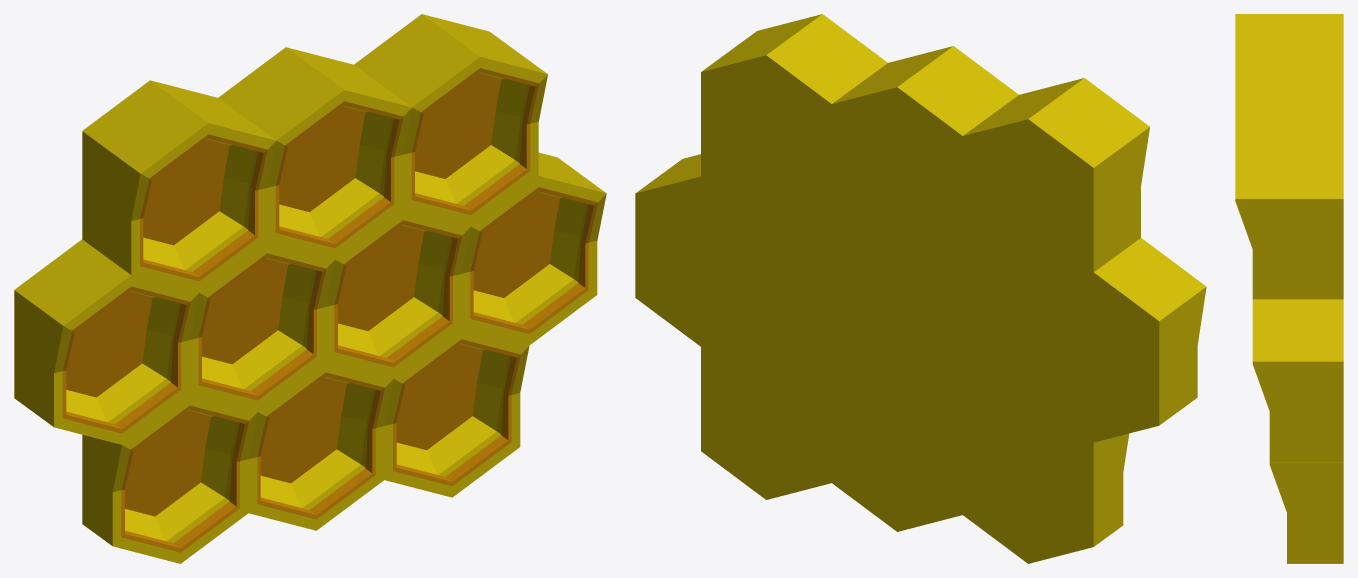
The model's file is CombBlock.fbx.
3 views of the same model, side by side, from view 1: azimuth 30°, elevation 25°; view 2: azimuth 150°, elevation 25°; view 3: azimuth 270°, elevation 25° (orthographic). The views are drawn at different scales.
Parts seen in each view (by area): view 1: Cube; view 2: Cube; view 3: Cube.
Boxes of the visible parts, x1=… form: Cube: x1=14, y1=14, x2=606, y2=563; Cube: x1=635, y1=14, x2=1206, y2=563; Cube: x1=1235, y1=14, x2=1343, y2=563.
Size of the model in its own units: 1051 by 852 by 196.
